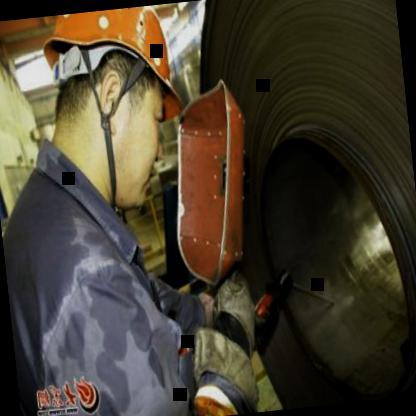helmet: (39, 3, 194, 218)
